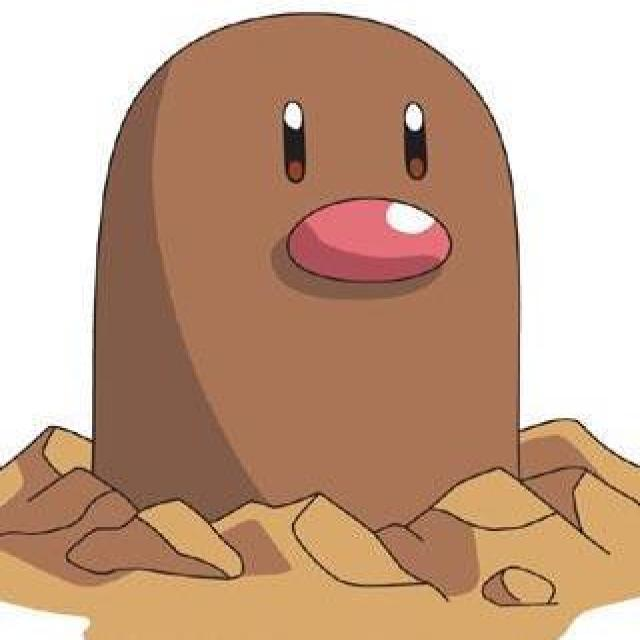Diglett: (88, 6, 538, 582)
